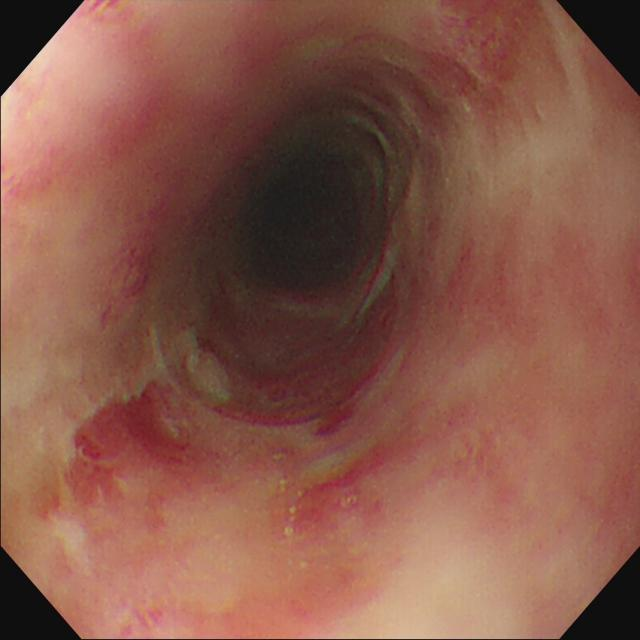A: (213, 324, 377, 425), (414, 403, 508, 514), (427, 2, 520, 109), (289, 444, 386, 537), (449, 247, 517, 328), (100, 229, 152, 327)
C: (72, 381, 196, 469), (313, 407, 359, 440)
E: (257, 161, 362, 286)
J: (187, 344, 239, 412)
